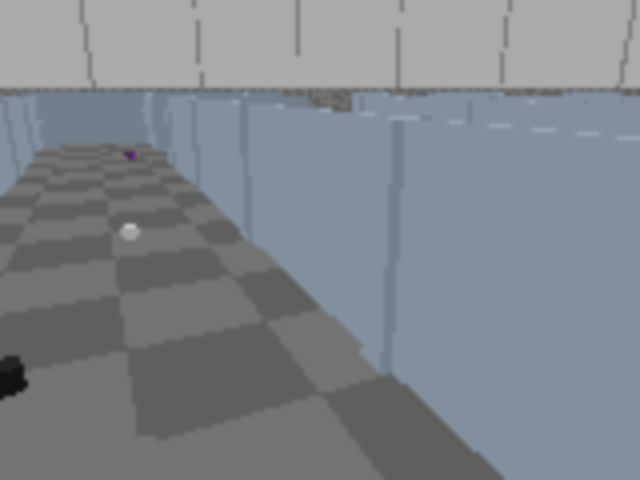obstacle: (0, 434, 211, 478)
puck: (0, 358, 27, 398), (120, 224, 140, 240)
